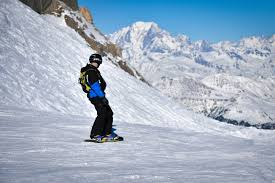snowboarder: (73, 45, 132, 148)
